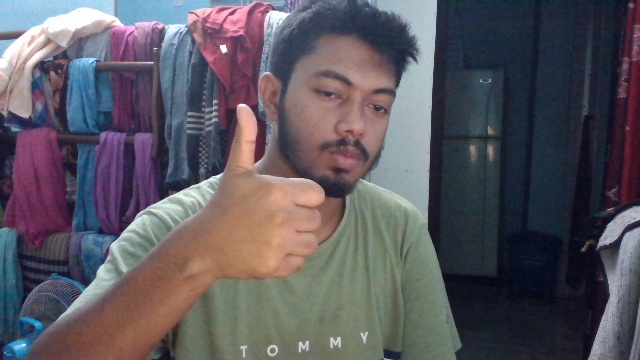yes: (206, 99, 330, 286)
